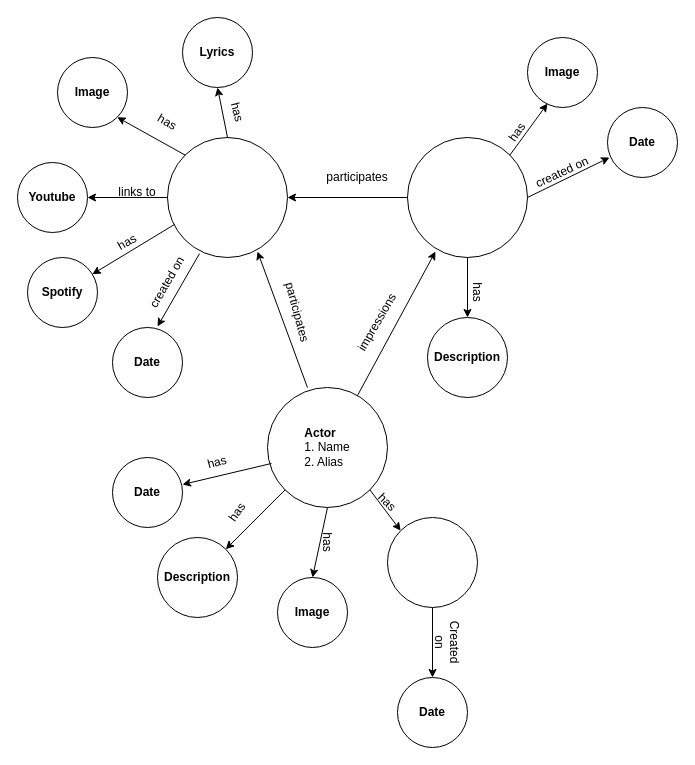
This 695x765 diagram has some shape labels left out. Each missing label, with the centre of its shape:
"Battle 1. Name 2. Duration" goes at point (227, 197).
"Character 1. Name" goes at point (467, 197).
"Social Media" goes at point (432, 562).
